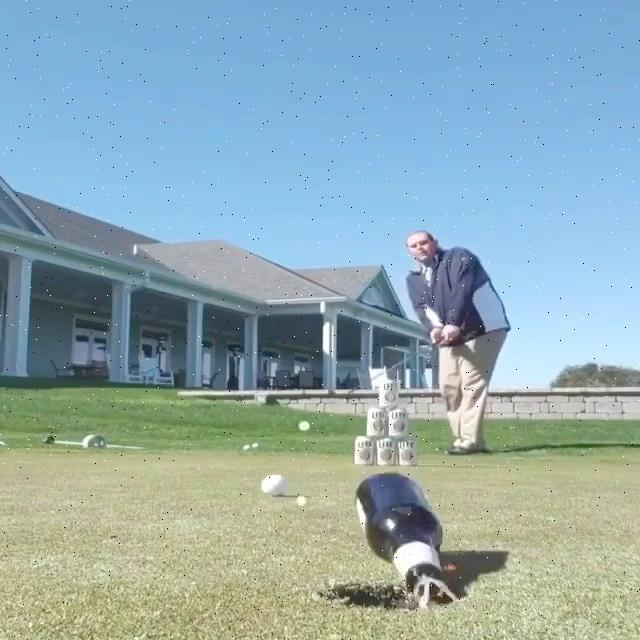ClubHead: (328, 388, 355, 400)
GolfBall: (262, 472, 290, 497), (296, 496, 309, 507), (298, 420, 311, 430), (240, 446, 250, 452), (252, 442, 262, 448)
